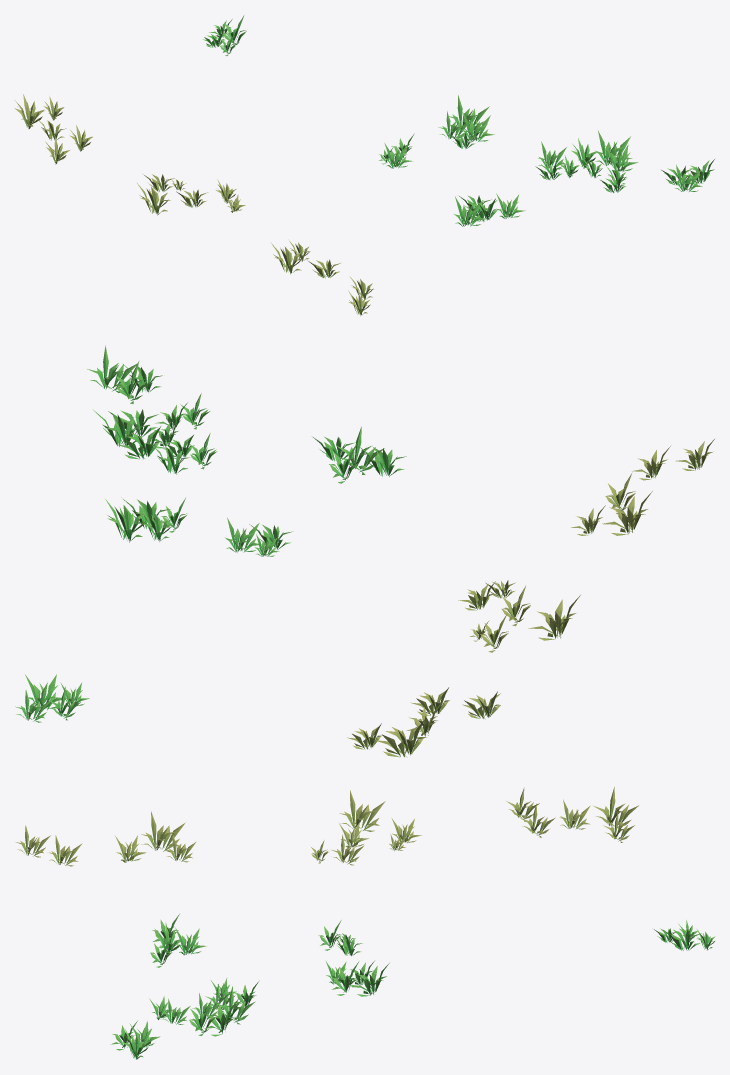
File: area_05_10.fbx
3 views of the same model, one above another, from view 1: azimuth 30°, elevation 25°; view 2: azimuth 150°, elevation 25°; view 3: azimuth 270°, elevation 25° (orthographic). The views are drawn at different scales.
Visible parts, largest first — view 1: area_05_10; view 2: area_05_10; view 3: area_05_10.
Boxes of the visible parts, x1,y1,x2,y2 form: area_05_10: (14, 15, 714, 315); area_05_10: (15, 345, 714, 757); area_05_10: (15, 786, 715, 1059).
Size of the model in its own units: 19.39 by 1.23 by 22.81.
